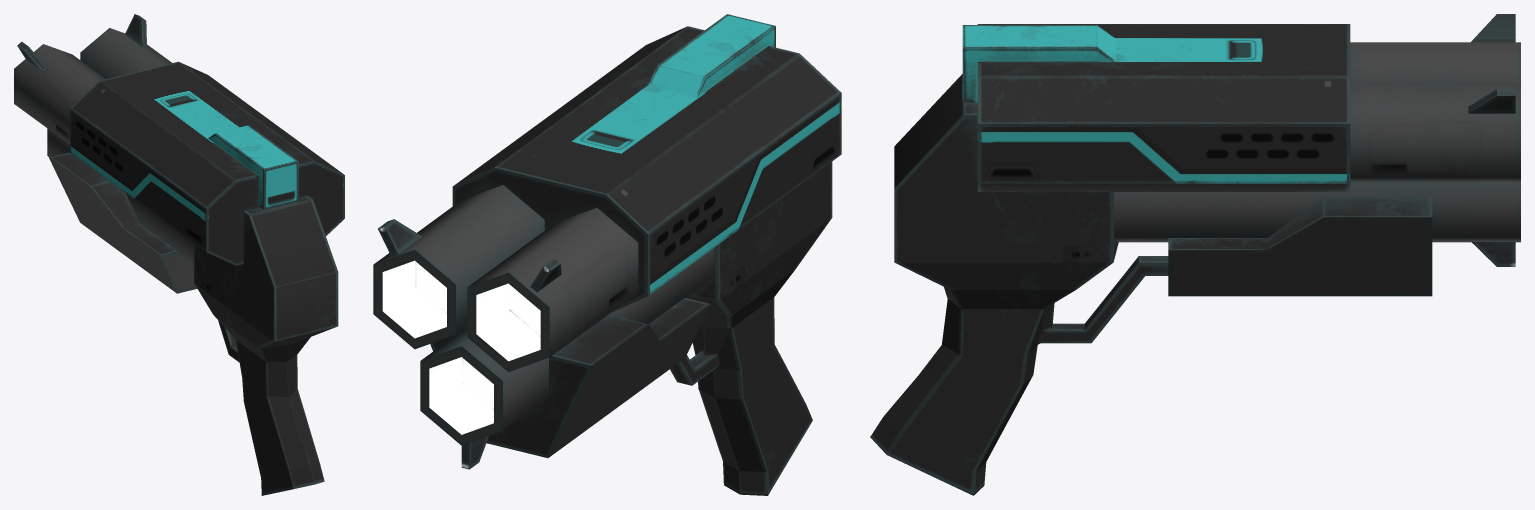
The model's file is IG_Gun_StormBoss_Elec.fbx.
3 renders of one model, left to right at view 1: azimuth 30°, elevation 25°; view 2: azimuth 150°, elevation 25°; view 3: azimuth 270°, elevation 25°, orthographic. The views are drawn at different scales.
Parts seen in each view (by area): view 1: Pfb_WPN_SGun; view 2: Pfb_WPN_SGun; view 3: Pfb_WPN_SGun.
Part boxes in pixels (bbox=[...]): Pfb_WPN_SGun: bbox=[14, 14, 344, 495]; Pfb_WPN_SGun: bbox=[373, 14, 841, 495]; Pfb_WPN_SGun: bbox=[870, 14, 1520, 495].
Size of the model in its own units: 0.2169 by 0.4945 by 0.6494.
